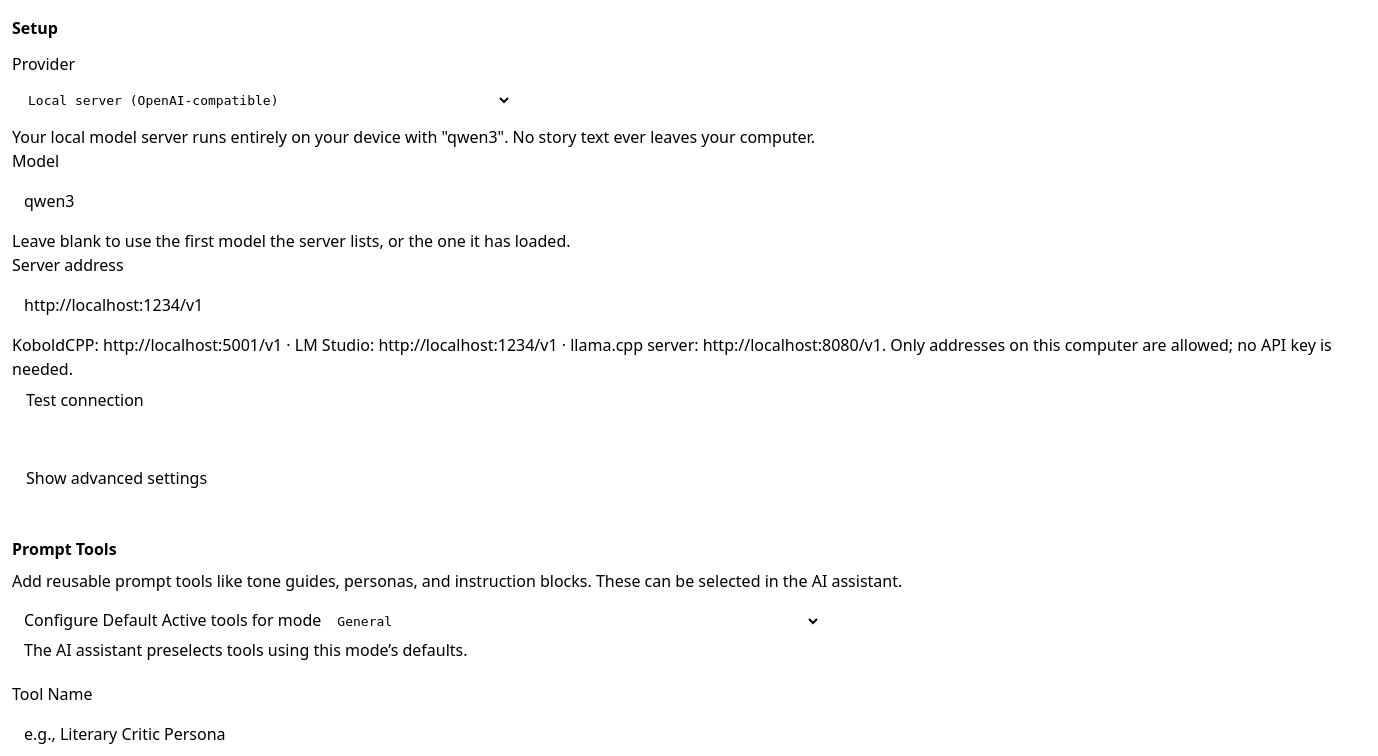
AISettings local model server › clears Maximum reply length back to the server default
Click the button "Show advanced settings": (116, 478) [12,459,221,497]
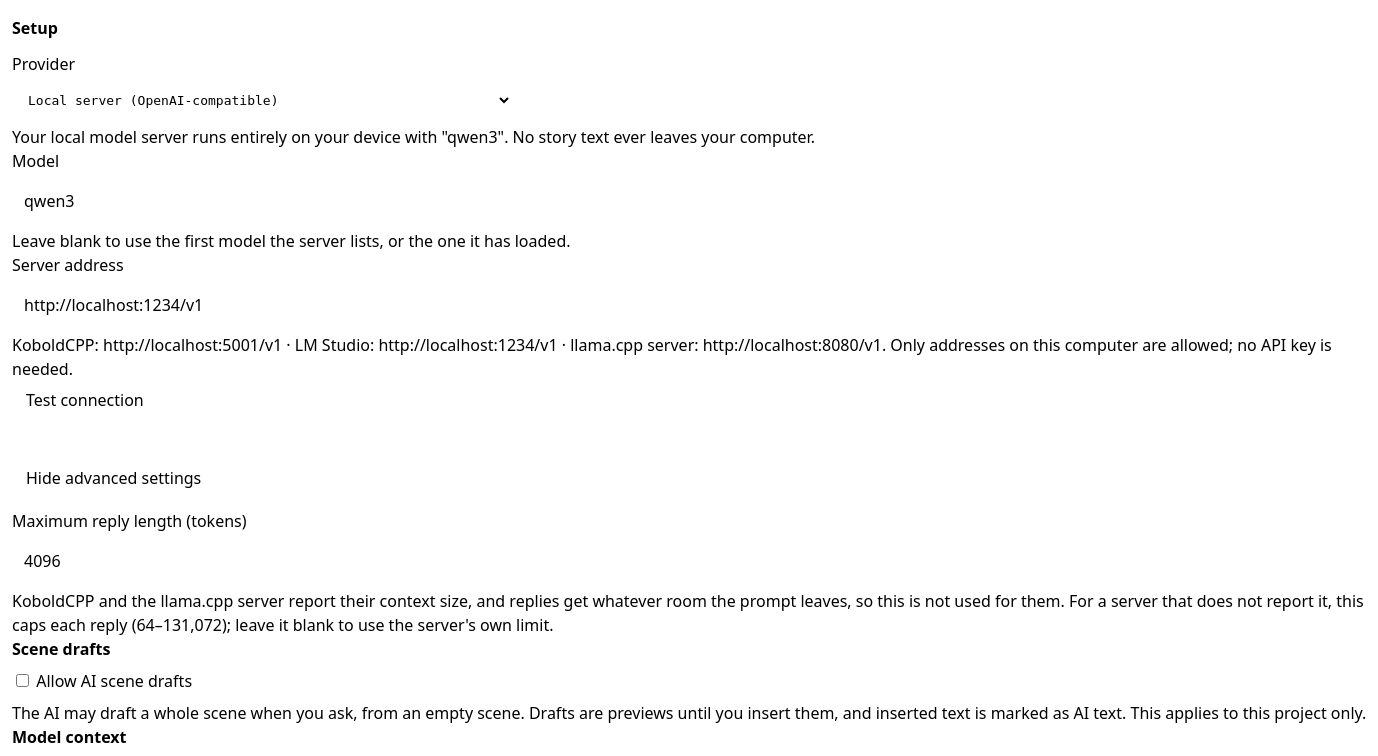
Check: the number field labelled "Maximum reply length (tokens)" holds "4096", box [12,541,536,581]
